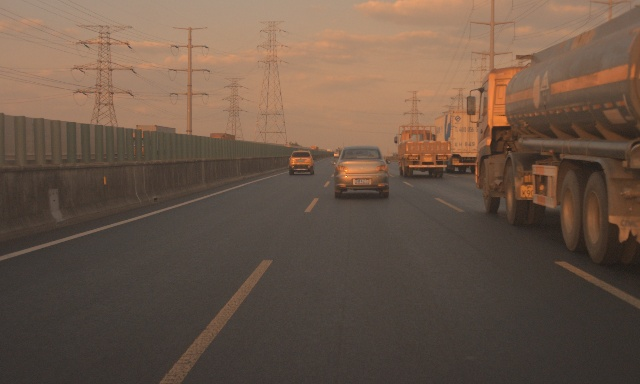car: (330, 145, 391, 198), (288, 150, 314, 174), (333, 152, 339, 158)
truck: (466, 3, 640, 264), (394, 124, 450, 177), (433, 111, 479, 172)
